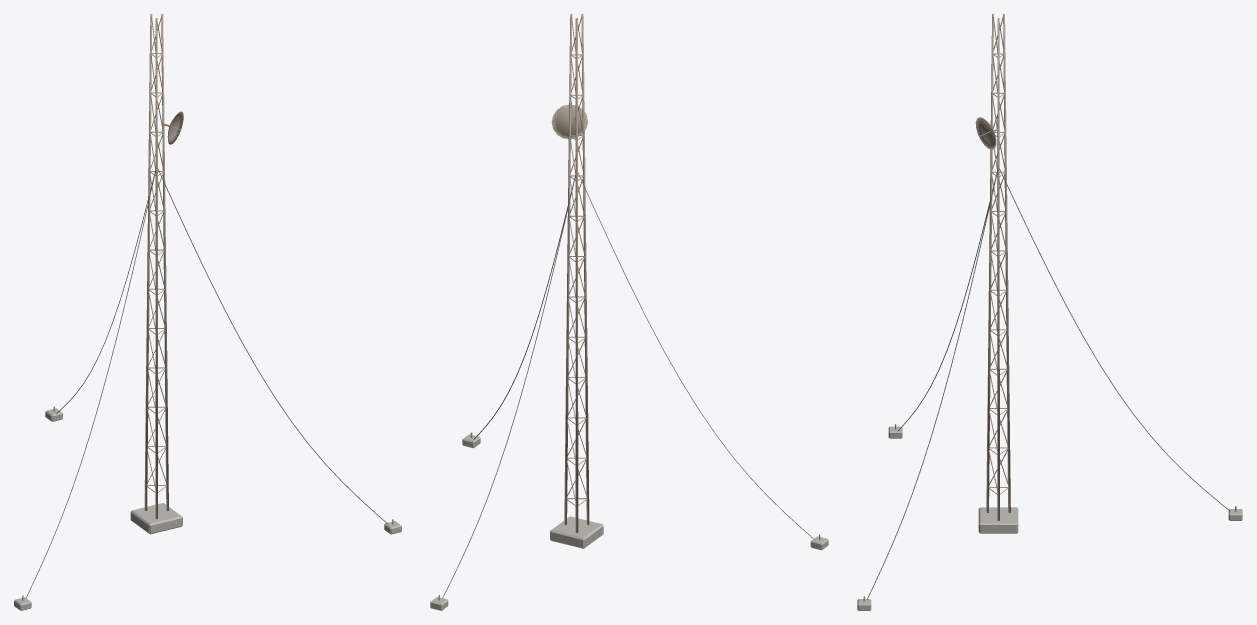
Rendered from radio_mast.glb.
3 views of the same model, side by side, from view 1: azimuth 30°, elevation 25°; view 2: azimuth 150°, elevation 25°; view 3: azimuth 270°, elevation 25° (orthographic). The views are drawn at different scales.
Visible parts, largest first — view 1: radio_mast; view 2: radio_mast; view 3: radio_mast.
Part boxes in pixels (box(x1,y1,x2,y2)): radio_mast: box(14, 14, 401, 610); radio_mast: box(430, 14, 828, 610); radio_mast: box(857, 14, 1242, 610).
Bounding box in the file's own units: 10.71 × 14.23 × 9.72.
